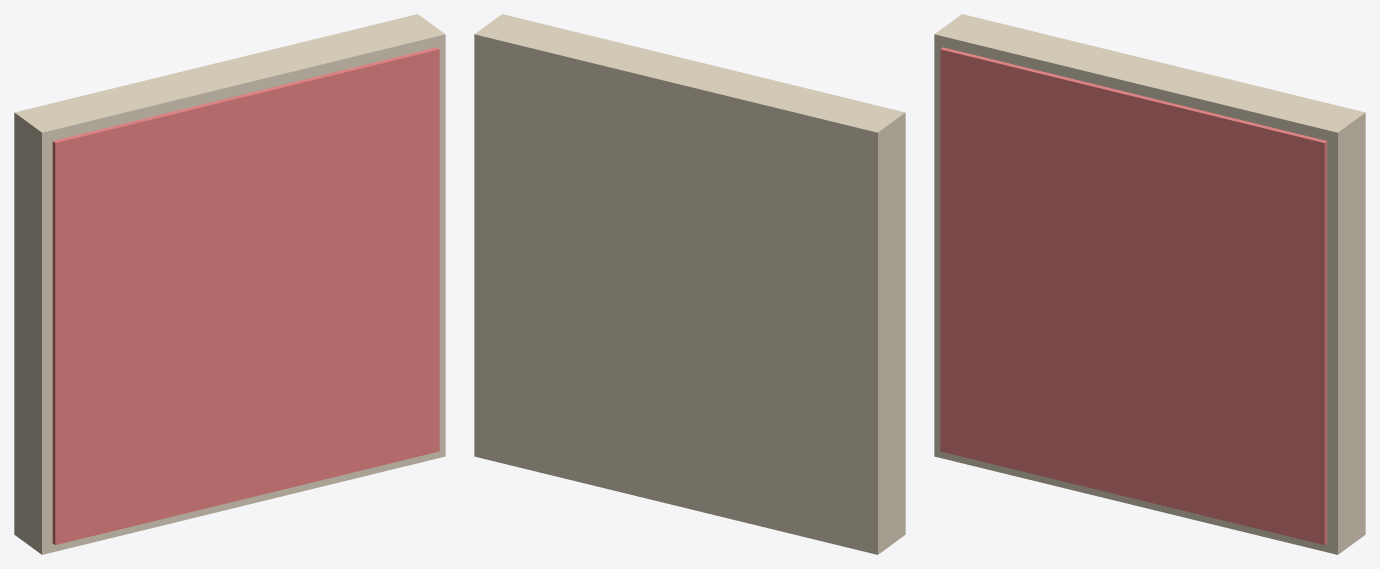
File: pizza_box.glb
3 views of the same model, side by side, from view 1: azimuth 30°, elevation 25°; view 2: azimuth 150°, elevation 25°; view 3: azimuth 330°, elevation 25° (orthographic).
Parts seen in each view (by area): view 1: label_1, box_0; view 2: box_0; view 3: label_1, box_0.
Part boxes in pixels (bbox=[...]): label_1: bbox=[52, 47, 439, 544]; box_0: bbox=[14, 14, 445, 554]; box_0: bbox=[474, 14, 905, 554]; label_1: bbox=[940, 47, 1327, 544]; box_0: bbox=[934, 14, 1365, 554].
Bounding box in the file's own units: 0.42 × 0.42 × 0.0565.
